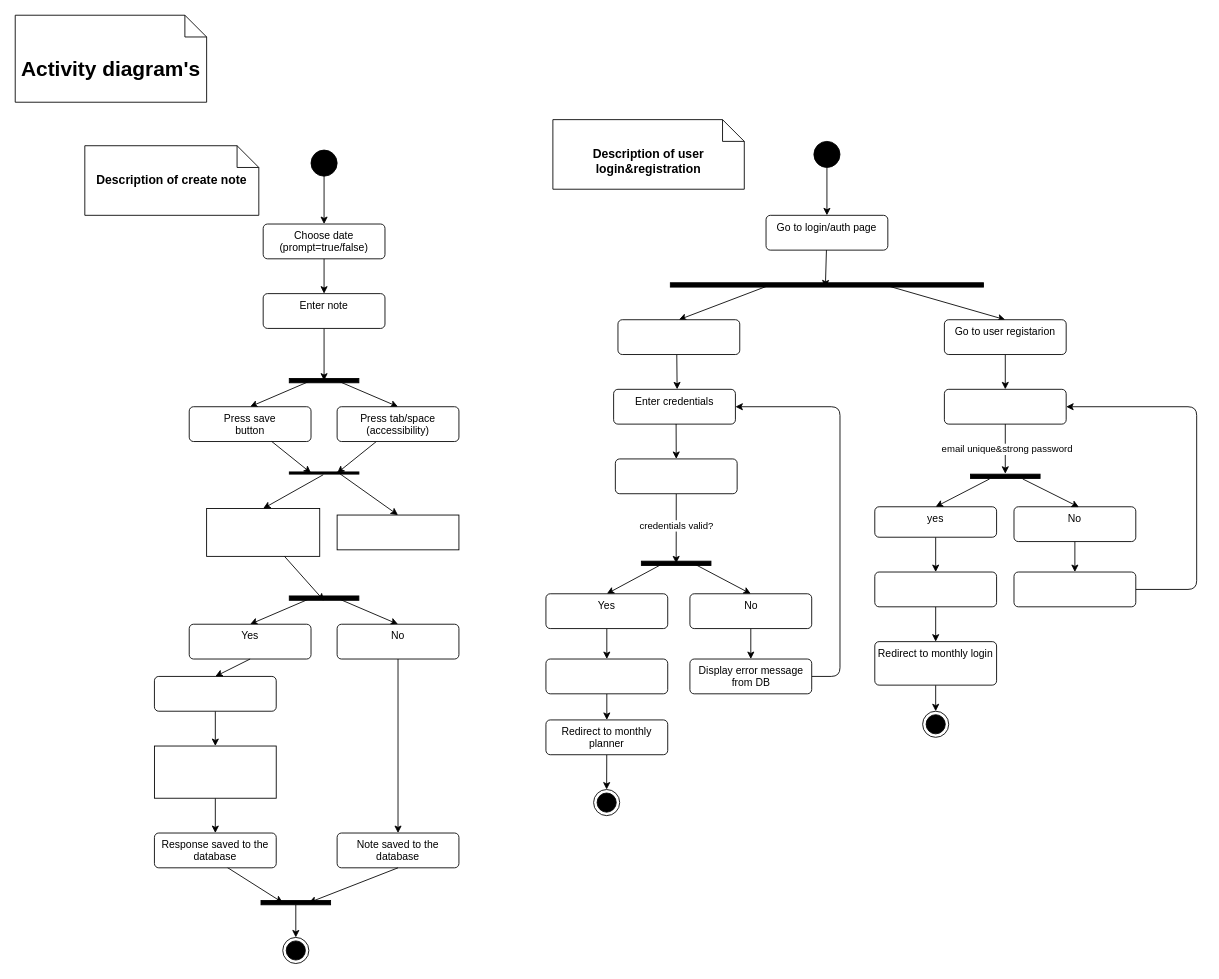
The diagram is 1219 pixels wide and 979 high, and some of its shapes have lost their labels. Each missing label, with the centre of its shape:
"Add new user to database" belongs at (x=935, y=589).
"Display validation error" belongs at (x=1074, y=589).
"Enter registration details" belongs at (x=1005, y=406).
"Getting user prompt from the database" belongs at (x=215, y=693).
"Note sent to the backend (prompt=true)" belongs at (x=263, y=532).
"Note sent to the OpenRouter with apiKey and user promt" belongs at (x=215, y=771).
"Notify user that note is saved" belongs at (x=397, y=532).
"Open connection pool to the database" belongs at (x=675, y=476).
"Save JWT to cookies" belongs at (x=606, y=676).
"U ser have account" belongs at (x=678, y=337).
